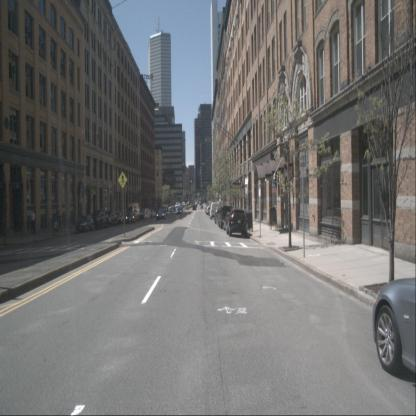human-pedestrian-adult: (31, 211, 36, 233)
vehicle-car: (372, 278, 416, 376), (226, 208, 248, 238), (223, 212, 240, 231), (77, 215, 94, 232), (104, 210, 118, 226), (215, 207, 226, 225), (210, 202, 221, 220), (125, 211, 136, 223), (135, 209, 146, 220), (113, 212, 123, 224), (156, 209, 166, 220), (150, 209, 157, 218), (208, 207, 214, 217), (205, 206, 211, 215), (207, 207, 212, 215), (177, 207, 182, 214)
vehicle-truck: (90, 209, 109, 229), (218, 206, 235, 228), (125, 202, 141, 223)
